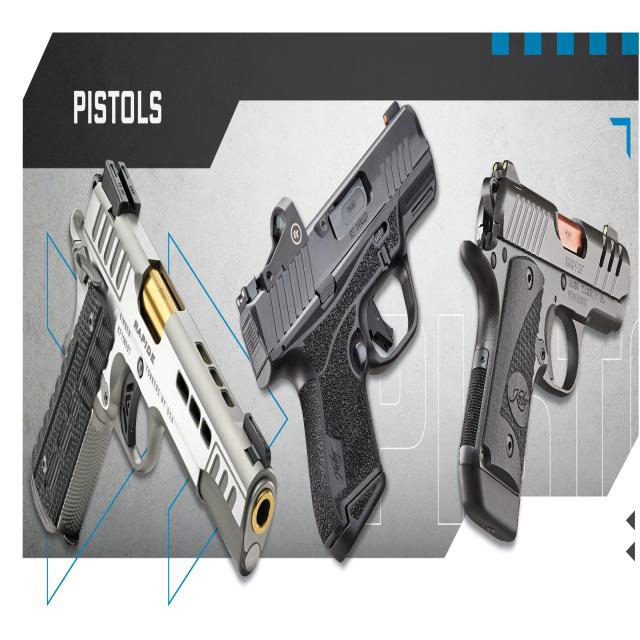Weapon: (30, 160, 277, 575), (236, 101, 436, 561), (459, 161, 629, 540)
